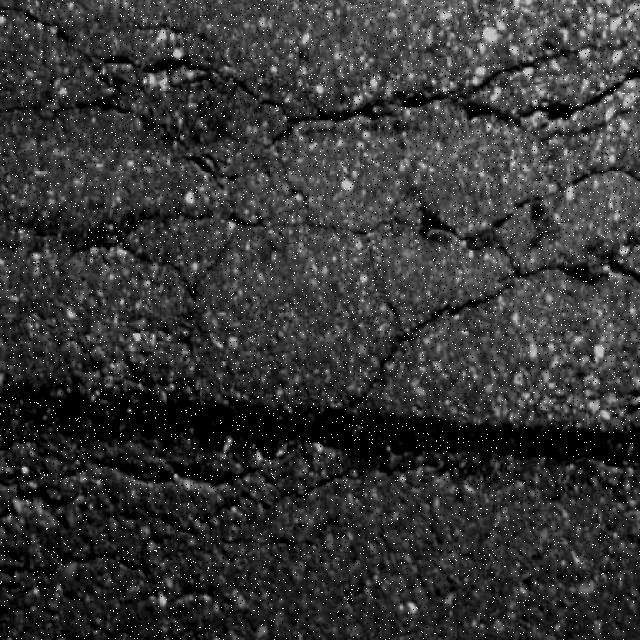Crack: (145, 55, 632, 229), (388, 248, 640, 344), (22, 210, 227, 299), (0, 6, 138, 72), (491, 168, 640, 228), (470, 43, 626, 94), (539, 101, 640, 143), (136, 25, 230, 68), (350, 349, 392, 409), (52, 100, 146, 120), (340, 215, 412, 237), (420, 221, 490, 241), (190, 151, 222, 189), (0, 102, 44, 116)
